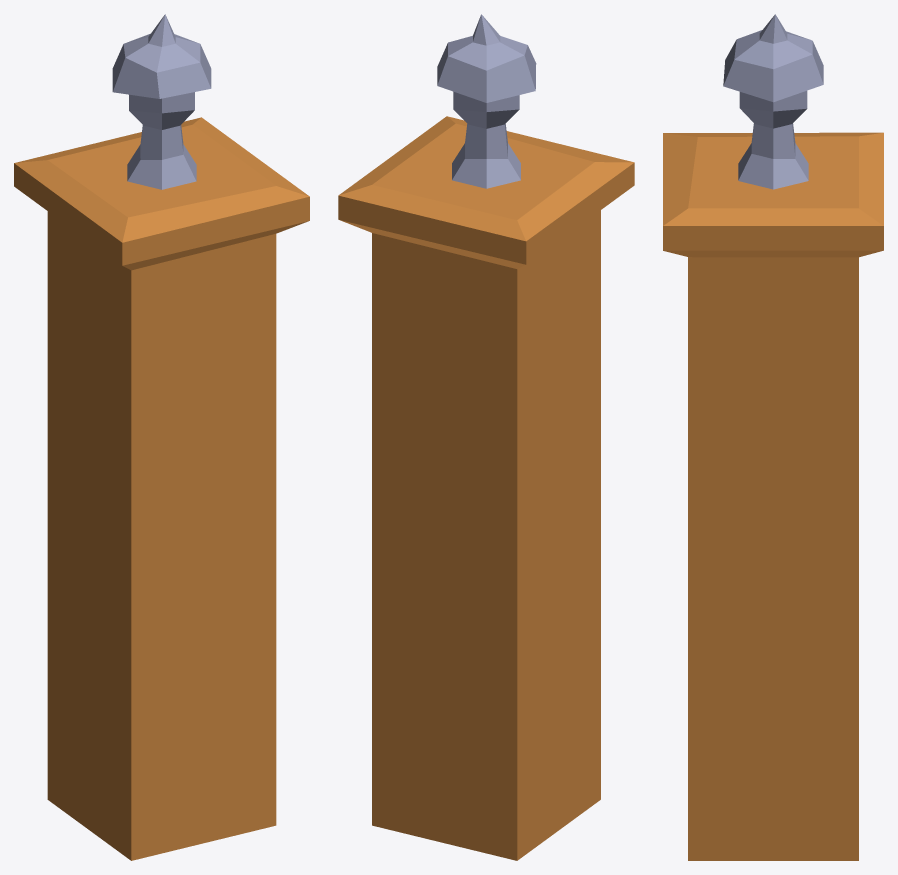
Rendered from fence2.fbx.
3 renders of one model, left to right at view 1: azimuth 30°, elevation 25°; view 2: azimuth 150°, elevation 25°; view 3: azimuth 270°, elevation 25°, orthographic. The views are drawn at different scales.
Parts seen in each view (by area): view 1: SM_Env_Fence_End_01.007; view 2: SM_Env_Fence_End_01.007; view 3: SM_Env_Fence_End_01.007.
Boxes of the visible parts, x1,y1,x2,y2 form: SM_Env_Fence_End_01.007: (14,14,309,860); SM_Env_Fence_End_01.007: (338,14,634,860); SM_Env_Fence_End_01.007: (663,14,883,860).
Bounding box in the file's own units: 38.07 × 155 × 38.07.
